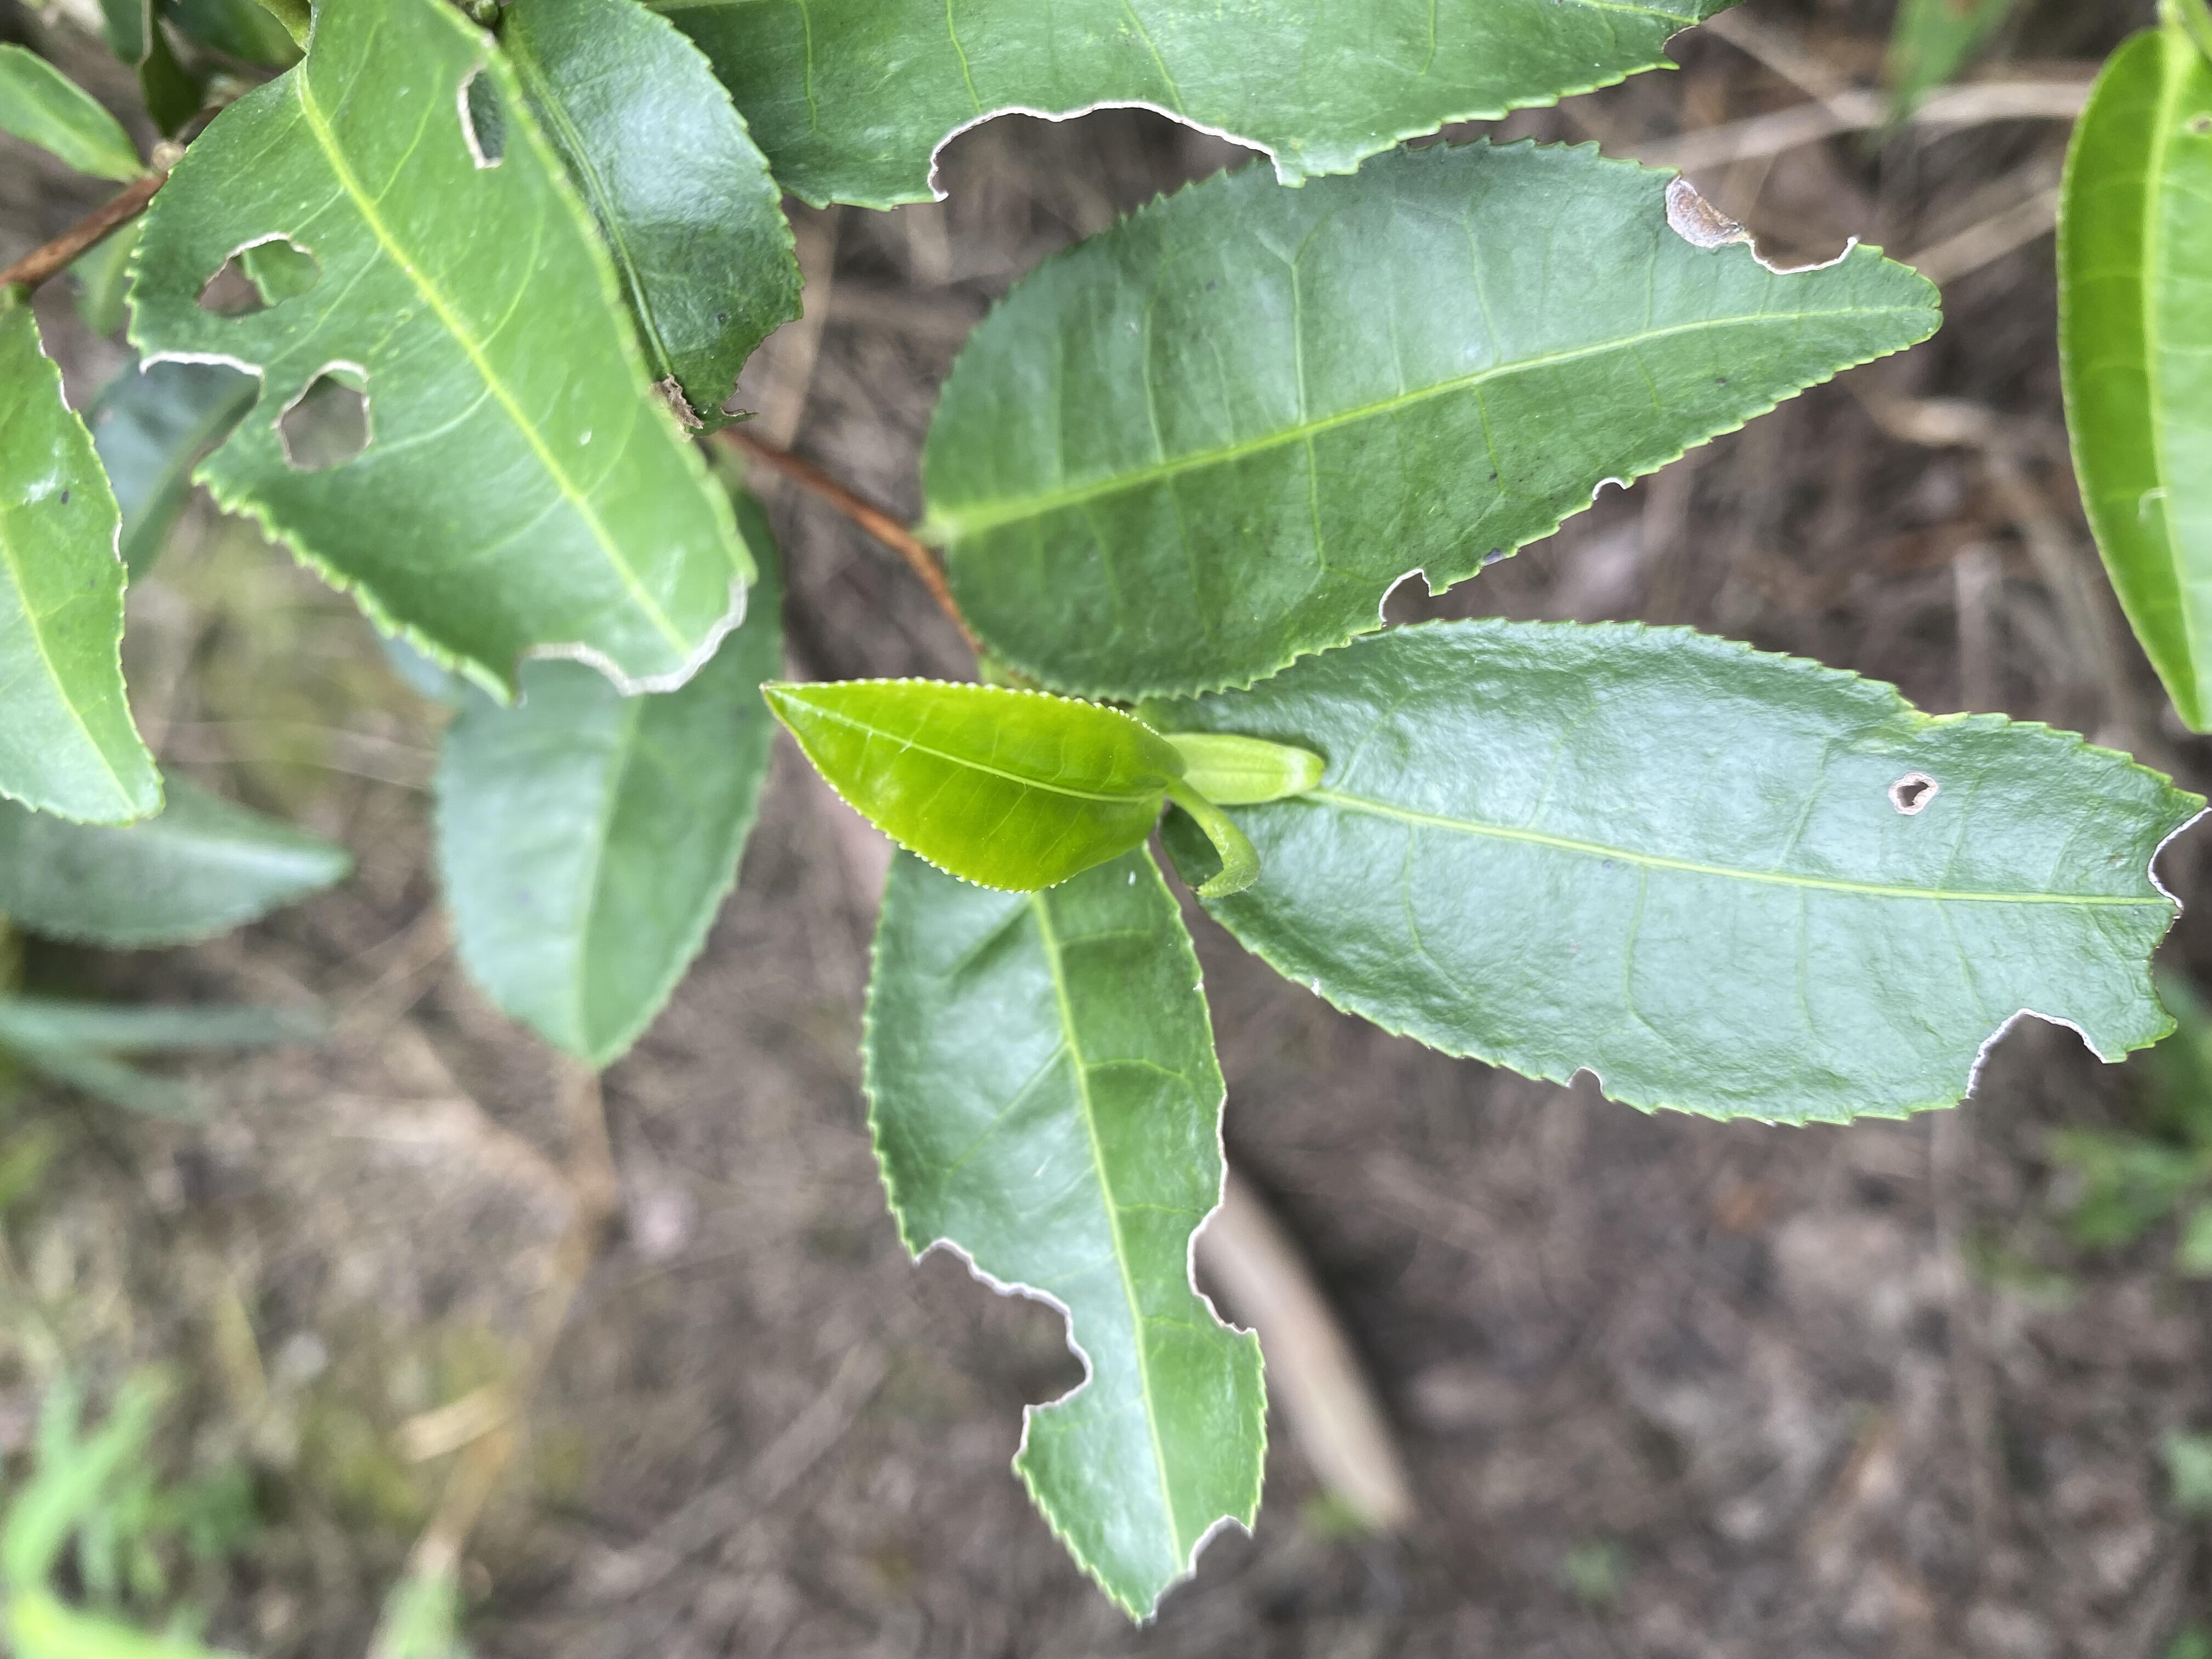chihuo_high: (1148, 617, 2207, 1127), (124, 3, 759, 706), (859, 847, 1270, 1626), (671, 3, 1749, 207)
healthy: (758, 676, 1186, 894)
